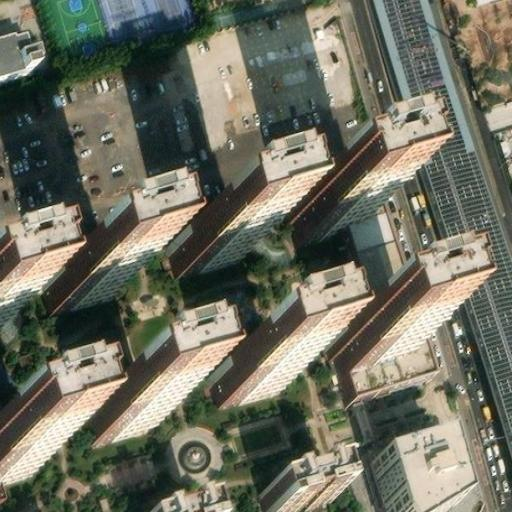building: (348, 188, 433, 385), (380, 426, 463, 512), (291, 170, 371, 233), (333, 310, 413, 367), (48, 247, 121, 303), (88, 379, 160, 435), (178, 208, 250, 264), (215, 343, 288, 398), (267, 461, 339, 508), (0, 417, 44, 468), (165, 499, 202, 512)
